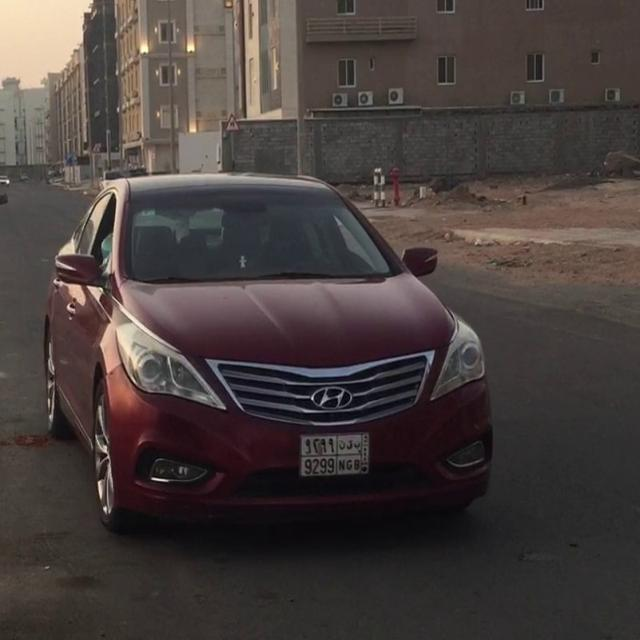Car-plate: (294, 425, 386, 490)
